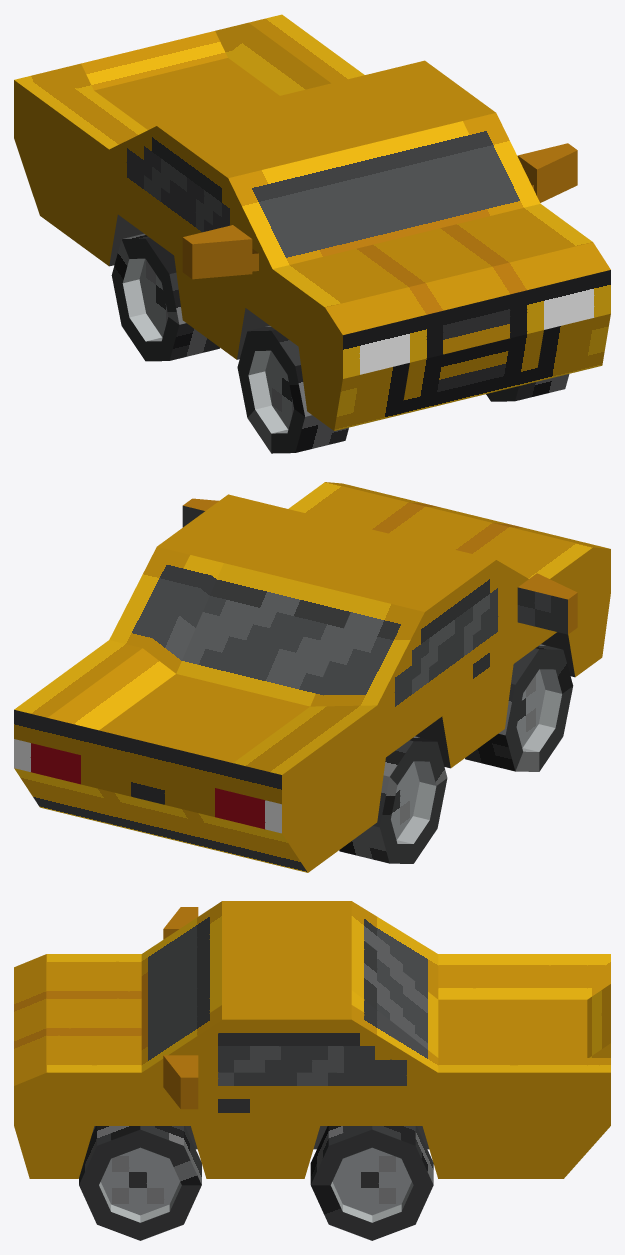
File: truck.glb
3 views of the same model, one above another, from view 1: azimuth 30°, elevation 25°; view 2: azimuth 150°, elevation 25°; view 3: azimuth 270°, elevation 25° (orthographic). The views are drawn at different scales.
Parts seen in each view (by area): view 1: cube_0, cylinder_2, cylinder_3, mirror_right_10, mirror_left_8, cylinder_6; view 2: cube_0, cylinder_3, cylinder_2, mirror_right_10, mirror_left_8; view 3: cube_0, cylinder_5, cylinder_6, mirror_left_8, mirror_right_10.
Boxes of the visible parts, bbox=[...] form: cube_0: bbox=[14, 14, 610, 430]; cylinder_2: bbox=[237, 326, 348, 453]; cylinder_3: bbox=[111, 234, 219, 361]; mirror_right_10: bbox=[182, 225, 252, 279]; mirror_left_8: bbox=[517, 143, 577, 202]; cylinder_6: bbox=[486, 374, 569, 401]; cube_0: bbox=[14, 482, 610, 872]; cylinder_3: bbox=[339, 736, 447, 863]; cylinder_2: bbox=[465, 644, 573, 771]; mirror_right_10: bbox=[517, 573, 577, 634]; mirror_left_8: bbox=[182, 498, 218, 527]; cube_0: bbox=[14, 901, 610, 1178]; cylinder_5: bbox=[310, 1126, 433, 1240]; cylinder_6: bbox=[79, 1126, 201, 1240]; mirror_left_8: bbox=[163, 1055, 198, 1109]; mirror_right_10: bbox=[163, 907, 198, 939].
Size of the model in its own units: 1.44 by 0.8687 by 2.12.
3 materials, 3 textured.
